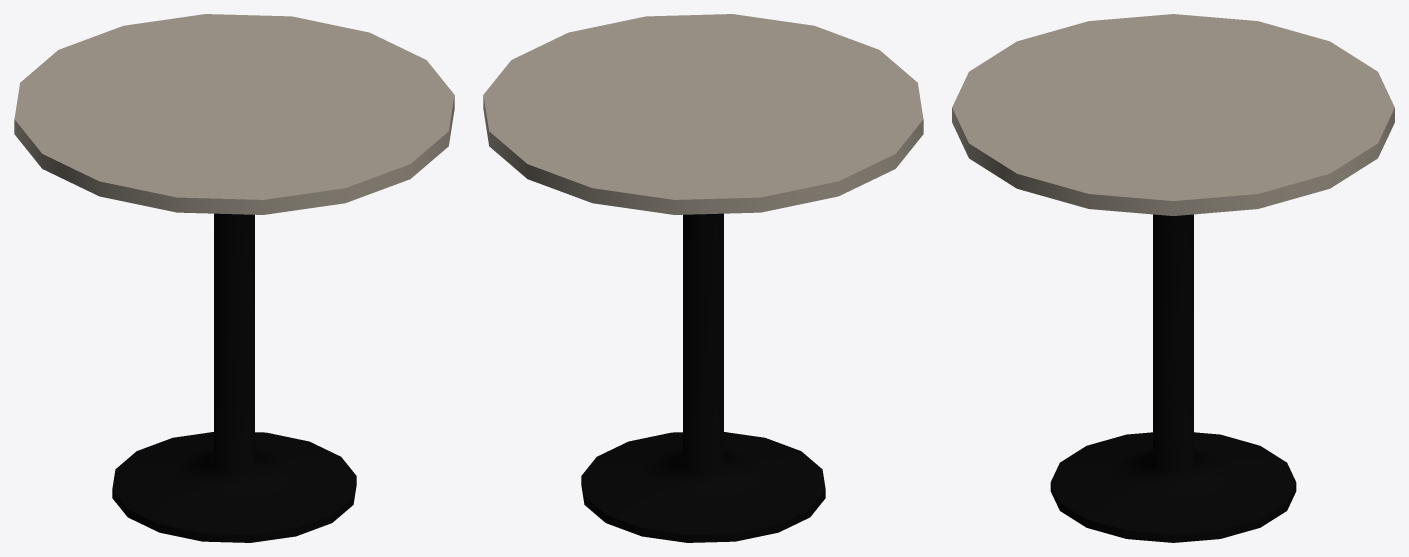
The model's file is MOD_round_table.fbx.
3 renders of one model, left to right at view 1: azimuth 30°, elevation 25°; view 2: azimuth 150°, elevation 25°; view 3: azimuth 270°, elevation 25°, orthographic.
Parts seen in each view (by area): view 1: pCylinder3; view 2: pCylinder3; view 3: pCylinder3.
Part boxes in pixels (x1=…): pCylinder3: x1=14, y1=14, x2=454, y2=542; pCylinder3: x1=483, y1=14, x2=923, y2=542; pCylinder3: x1=952, y1=14, x2=1394, y2=542.
Bounding box in the file's own units: 1.44 × 1.37 × 1.44.
